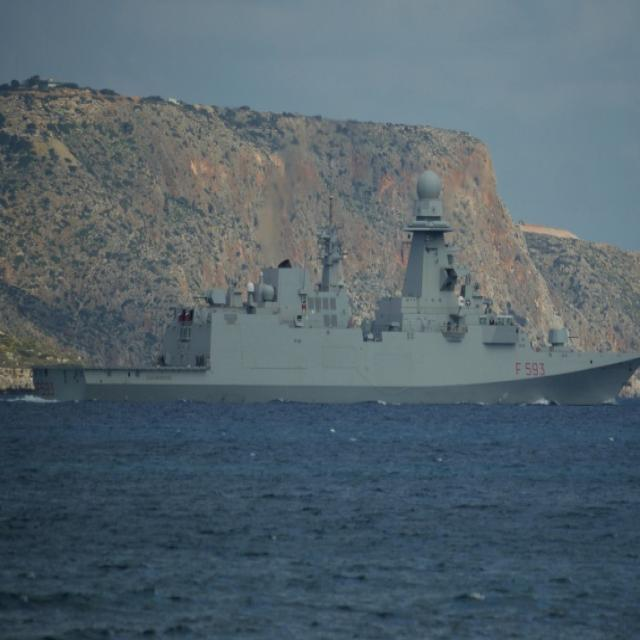Fragata: (33, 157, 640, 412)
